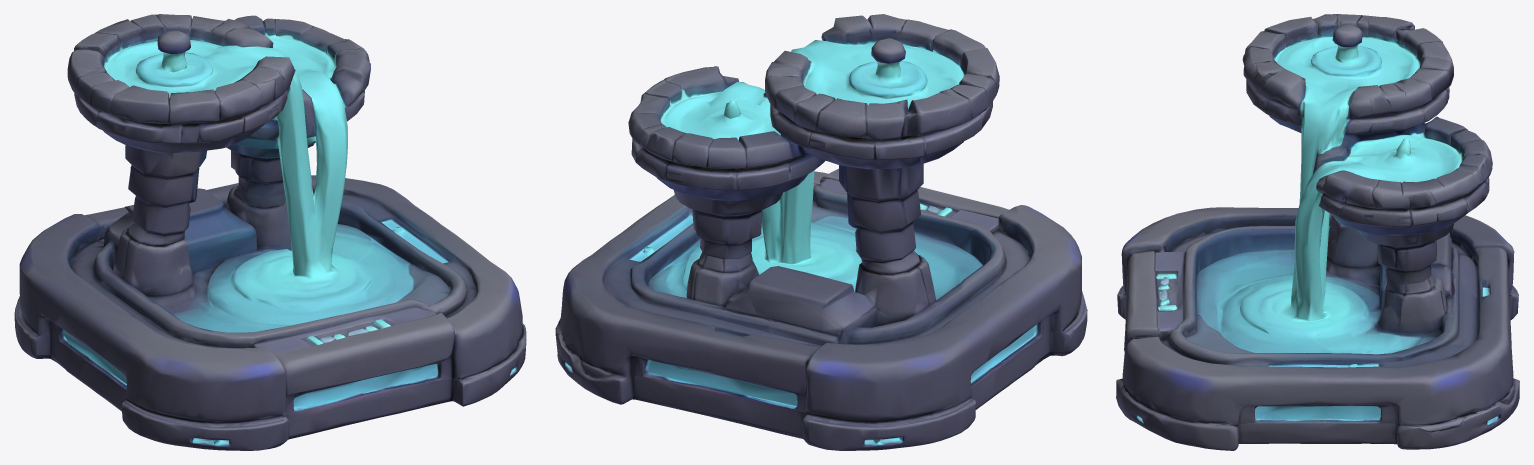
The model's file is waterfall.glb.
The picture shows the model from 3 angles, left to right: view 1: azimuth 30°, elevation 25°; view 2: azimuth 150°, elevation 25°; view 3: azimuth 270°, elevation 25°; orthographic projection. The views are drawn at different scales.
Visible parts, largest first — view 1: tripo_node_6172fe4f-b2d9-418d-8669-53e943523447; view 2: tripo_node_6172fe4f-b2d9-418d-8669-53e943523447; view 3: tripo_node_6172fe4f-b2d9-418d-8669-53e943523447.
Part boxes in pixels (x1=…): tripo_node_6172fe4f-b2d9-418d-8669-53e943523447: x1=14, y1=14, x2=526, y2=450; tripo_node_6172fe4f-b2d9-418d-8669-53e943523447: x1=555, y1=14, x2=1087, y2=450; tripo_node_6172fe4f-b2d9-418d-8669-53e943523447: x1=1116, y1=14, x2=1519, y2=450.
Size of the model in its own units: 0.9803 by 0.7824 by 0.9502.
Materials: 1 (1 with a texture image).
